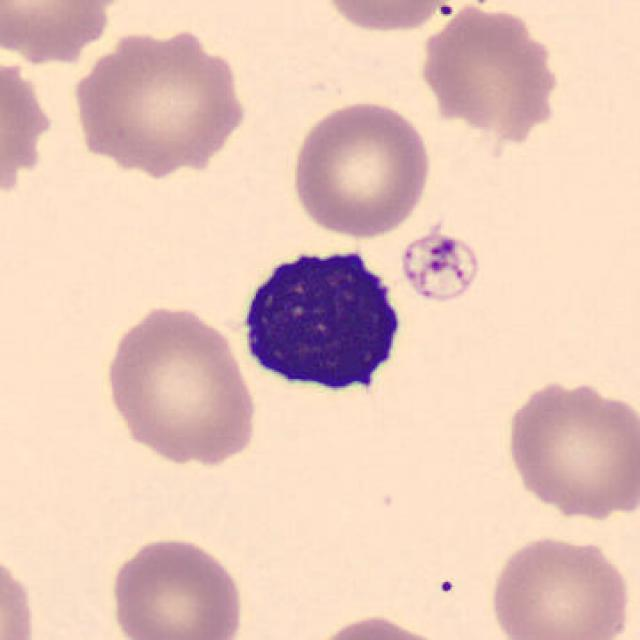Lymphocyte: (229, 231, 418, 411)
Platelets: (396, 228, 484, 304)
RBC: (68, 25, 252, 176), (100, 300, 262, 469), (286, 95, 436, 240), (416, 3, 558, 146), (502, 374, 638, 520), (485, 530, 634, 640), (105, 532, 249, 640), (2, 2, 124, 65), (0, 61, 53, 197), (314, 0, 467, 35), (302, 612, 459, 640), (0, 543, 39, 640)
